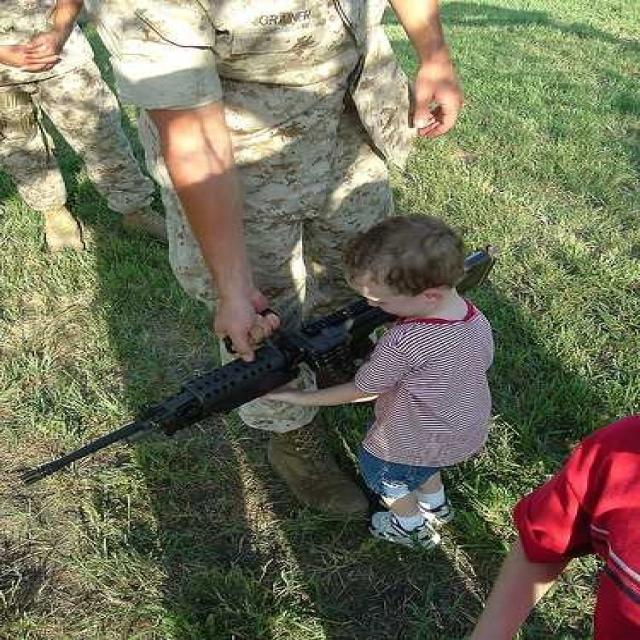Rifle: (4, 230, 513, 506)
